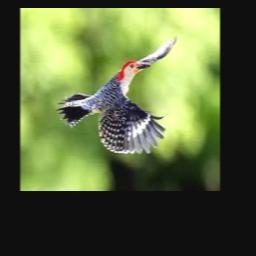Woodpecker: (58, 34, 177, 154)
